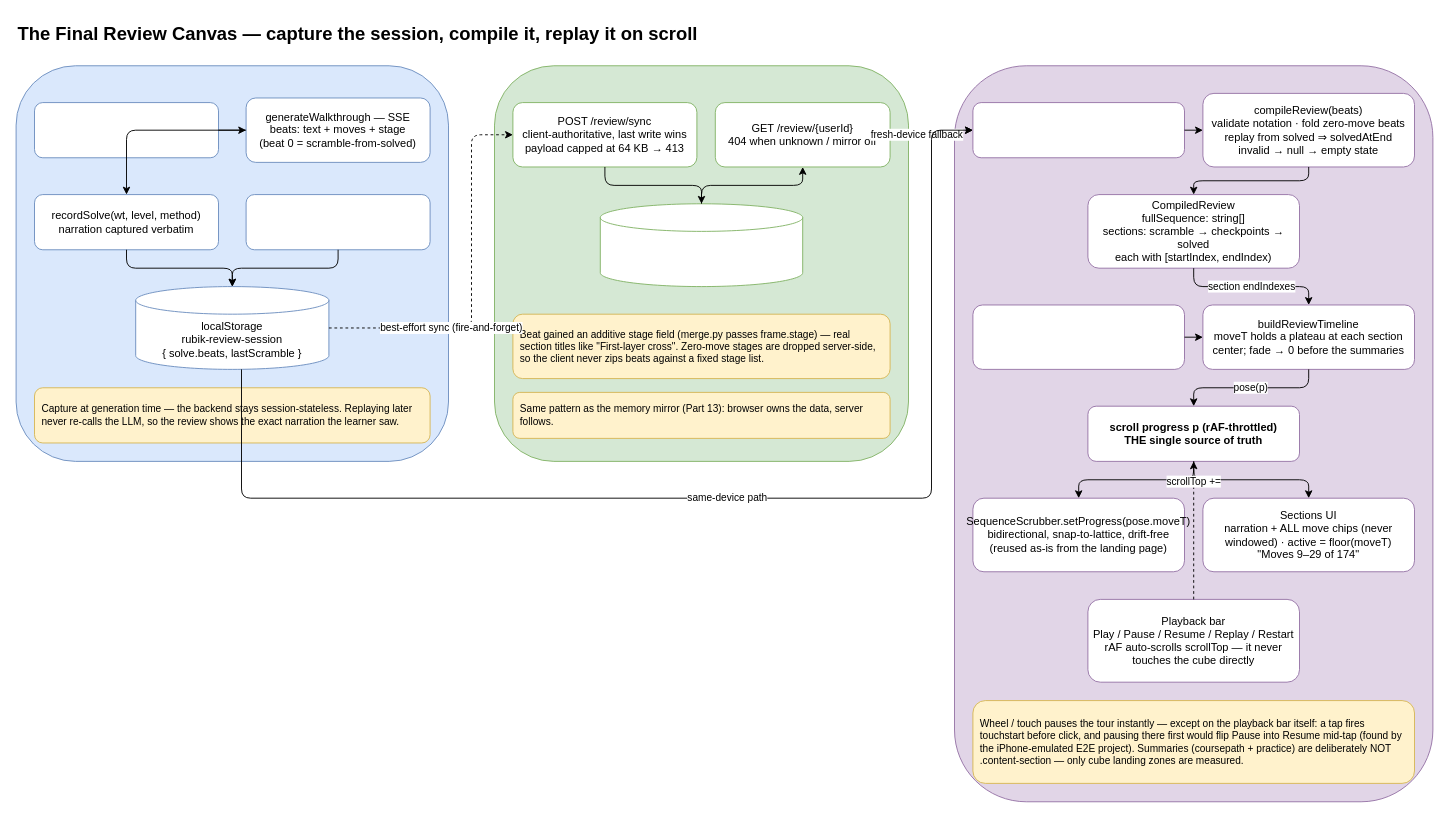
The diagram is 1449 pixels wide and 818 high, and some of its shapes have lost their labels. Here are the shapes that lost their labels. From the top down, the box of each, then its label:
(34, 102, 218, 158): Explore panel "Solve my cube (Qwen)"
(972, 102, 1184, 158): loadReviewSession() empty? → GET /review/{userId} → hydrate
(245, 194, 430, 250): cubeStore.onScramble(moves) → recordScramble
(15, 65, 448, 461): /play — capture during the session
(599, 203, 803, 287): review_sessions (user_id PK, payload JSON, updated_at)
(494, 65, 908, 461): FastAPI + Turso — optional mirror (kill-switch: empty TURSO_DATABASE_URL)
(972, 304, 1184, 369): measure() .content-section centers + sides (re-runs on resize)
(954, 65, 1433, 802): /review — compile & replay
